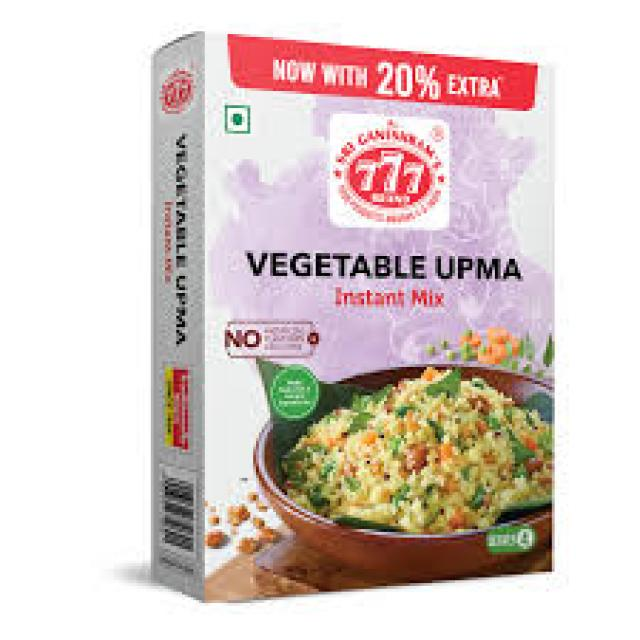UPMA: (279, 370, 549, 529)
